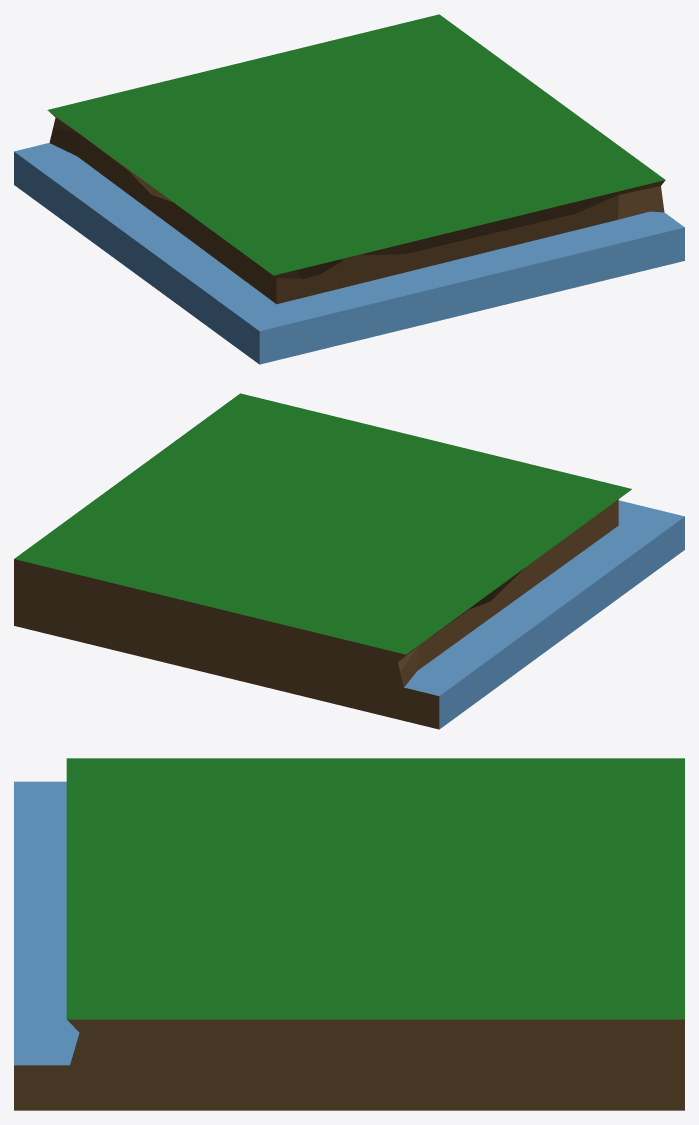
Rendered from Coast_Edge.fbx.
The picture shows the model from 3 angles, top to bottom: view 1: azimuth 30°, elevation 25°; view 2: azimuth 150°, elevation 25°; view 3: azimuth 270°, elevation 25°; orthographic projection. The views are drawn at different scales.
Visible parts, largest first — view 1: Coast_Edge; view 2: Coast_Edge; view 3: Coast_Edge.
Part boxes in pixels (x1=…): Coast_Edge: x1=14, y1=14, x2=684, y2=364; Coast_Edge: x1=14, y1=393, x2=684, y2=729; Coast_Edge: x1=14, y1=758, x2=684, y2=1110.
Size of the model in its own units: 200 by 30 by 200.
